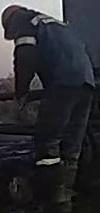gloves: (8, 90, 33, 124)
helmet: (0, 4, 28, 42)
vest: (11, 3, 96, 104)
